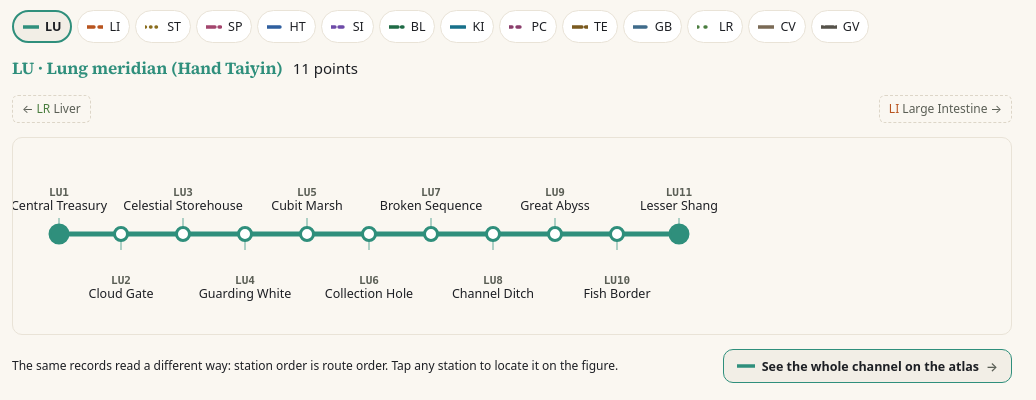
Scenario: line strip › sends the two midline vessels no neighbours, and says why
Click the tab with class "strip-chip" showing "CV".
click(777, 27)  # box [748,10,806,43]
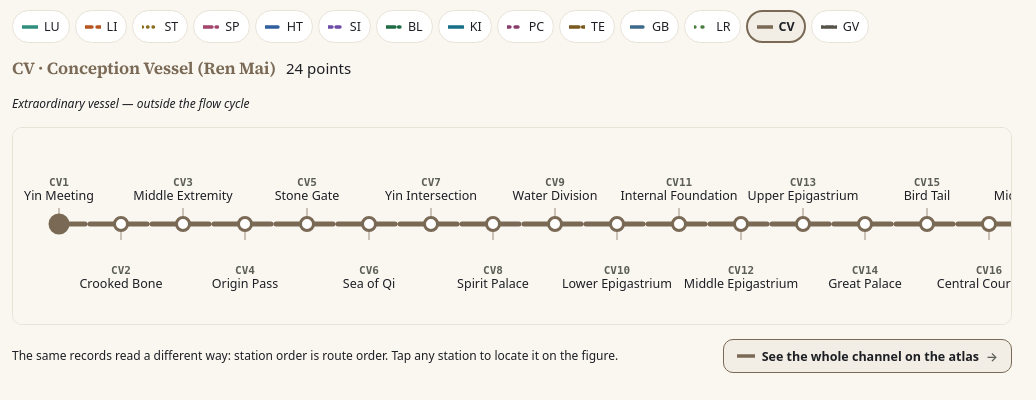
Now the element with class "strip-flow" reads "Extraordinary vessel — outside the flow cycle", box [12,95,250,112]
Now no buttons with class "strip-neighbour" are shown
